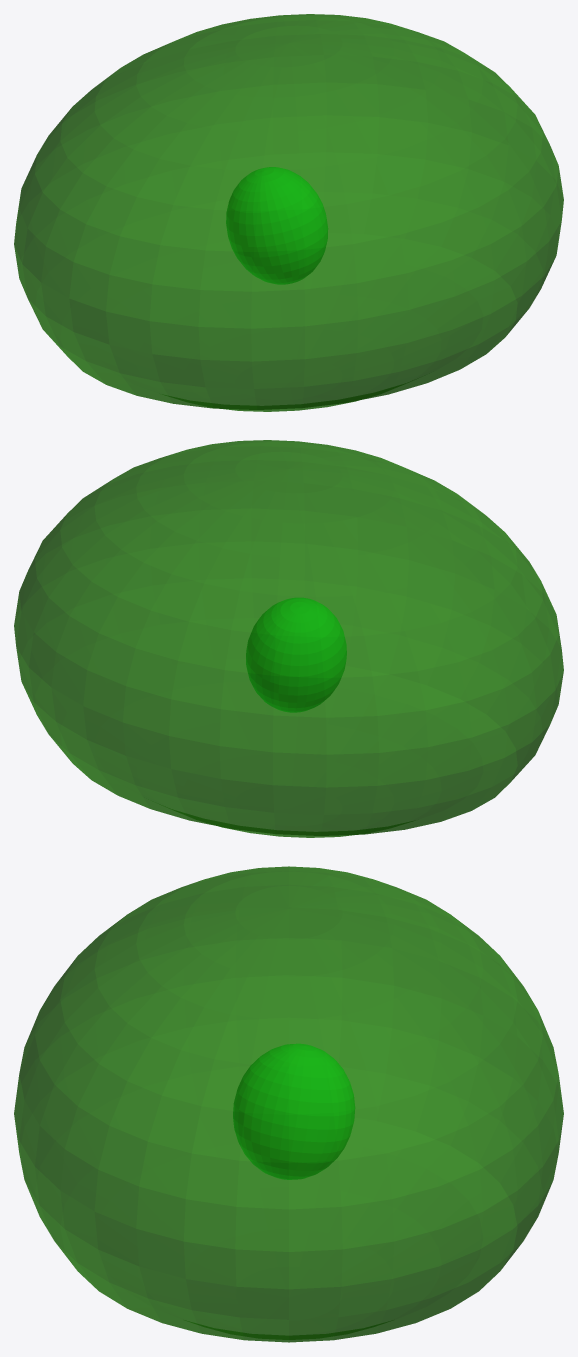
File: slime.fbx
The picture shows the model from 3 angles, top to bottom: view 1: azimuth 30°, elevation 25°; view 2: azimuth 150°, elevation 25°; view 3: azimuth 270°, elevation 25°; orthographic projection. The views are drawn at different scales.
Visible parts, largest first — view 1: Sphere, Sphere.002; view 2: Sphere, Sphere.002; view 3: Sphere, Sphere.002.
Part boxes in pixels (x1,y1,x2,y2): Sphere: (14,14,563,411); Sphere.002: (226,167,327,284); Sphere: (14,440,563,837); Sphere.002: (246,598,346,712); Sphere: (14,866,563,1342); Sphere.002: (233,1044,354,1179).
Size of the model in its own units: 274 by 180 by 230.
